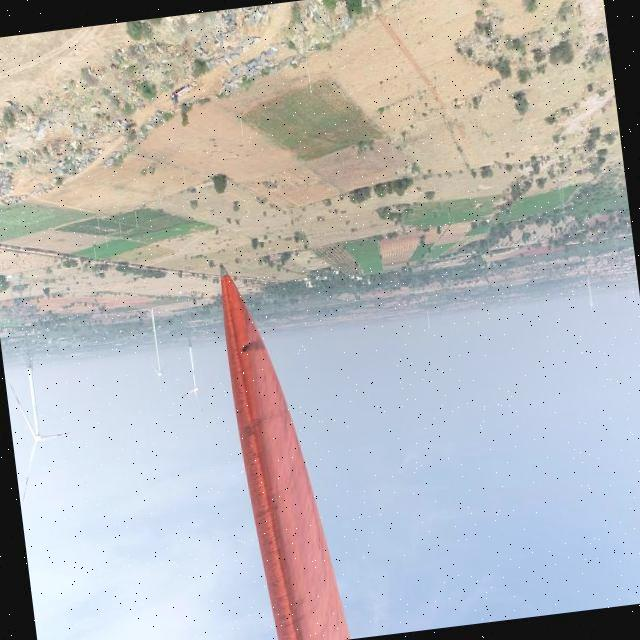Dirt: (222, 271, 353, 640)
Pin Hole: (239, 344, 255, 352)
